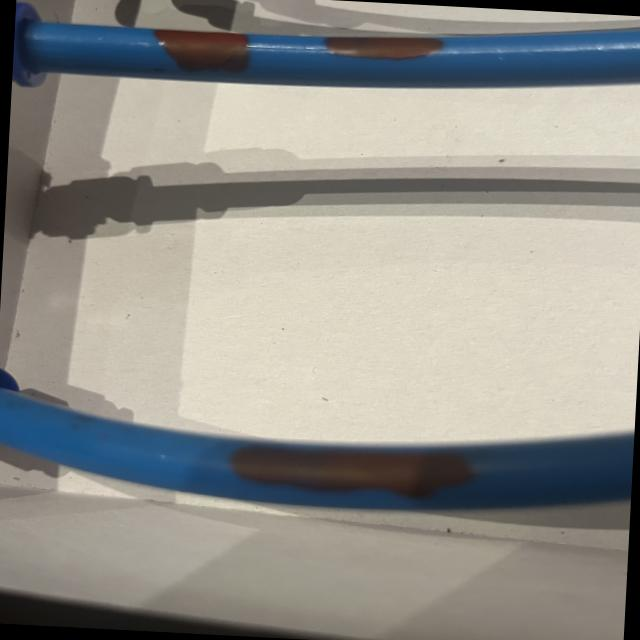hose_damage: (224, 430, 486, 508), (151, 25, 257, 80), (320, 27, 452, 67)
